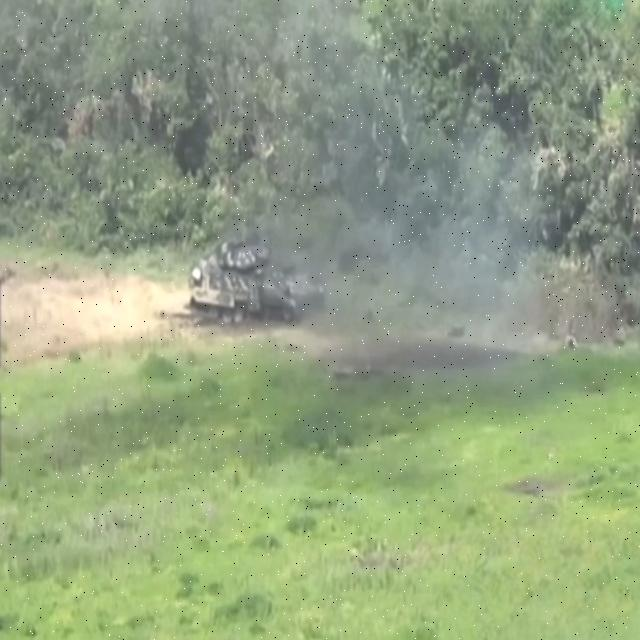AIFV: (180, 237, 330, 331)
